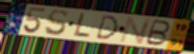5: (22, 6, 48, 35)
B: (144, 19, 172, 47)
D: (94, 15, 119, 40)
L: (72, 12, 92, 39)
N: (118, 16, 153, 45)
S: (44, 9, 69, 37)
